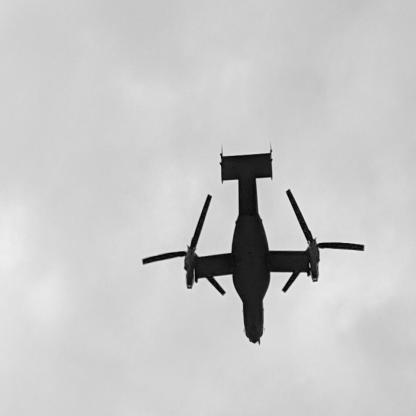V22: (143, 142, 366, 347)
